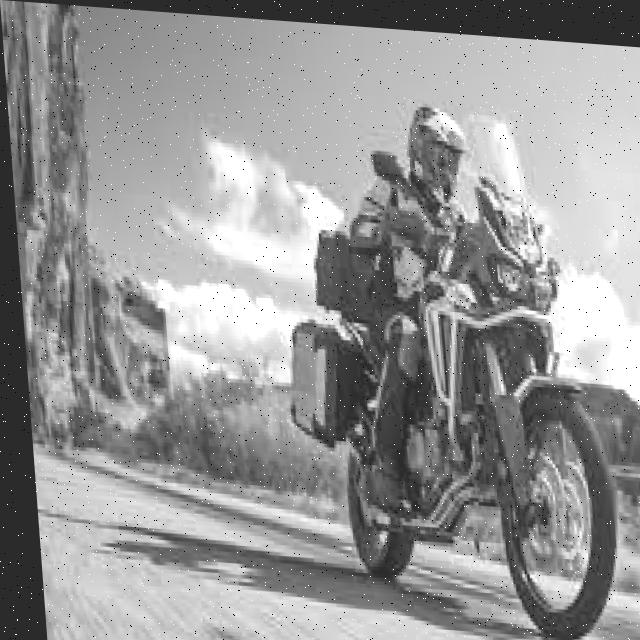bike: (278, 165, 637, 613)
